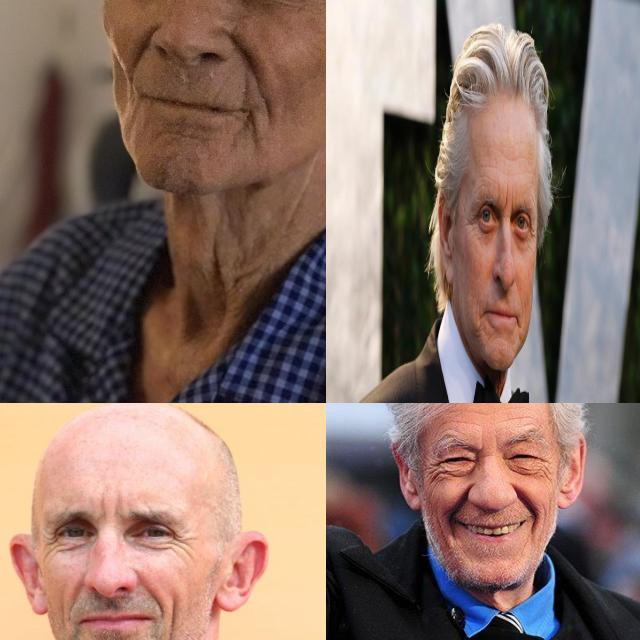chin: (476, 320, 484, 340)
crows_feet: (538, 456, 554, 484), (170, 530, 190, 552), (425, 458, 443, 482), (42, 530, 62, 550), (466, 206, 479, 231), (529, 220, 536, 246)
forehead: (498, 410, 534, 426), (446, 414, 480, 430), (503, 149, 516, 167), (484, 158, 499, 173), (482, 170, 494, 188)
frown_line: (96, 496, 112, 524), (502, 185, 508, 214), (510, 188, 515, 213)
gummy_smile: (223, 32, 277, 96), (134, 27, 156, 85), (140, 580, 163, 612), (448, 485, 470, 517), (518, 488, 538, 512)
masseter: (166, 598, 180, 638), (434, 518, 451, 546)
sad_smile: (245, 111, 262, 159), (516, 313, 522, 334)
